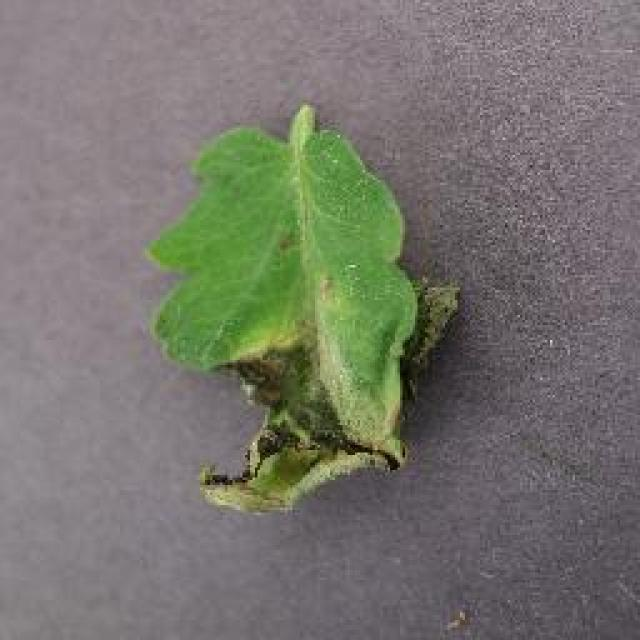Tomato late blight leaf: (152, 120, 464, 524)
